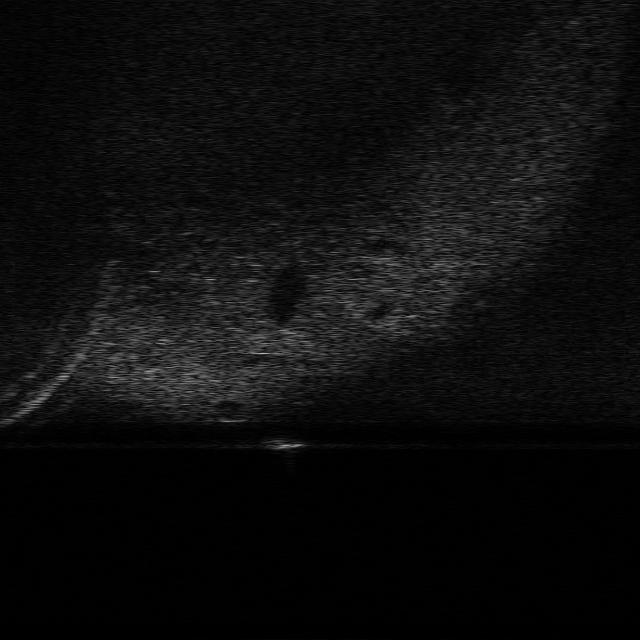cube: (260, 434, 309, 454)
